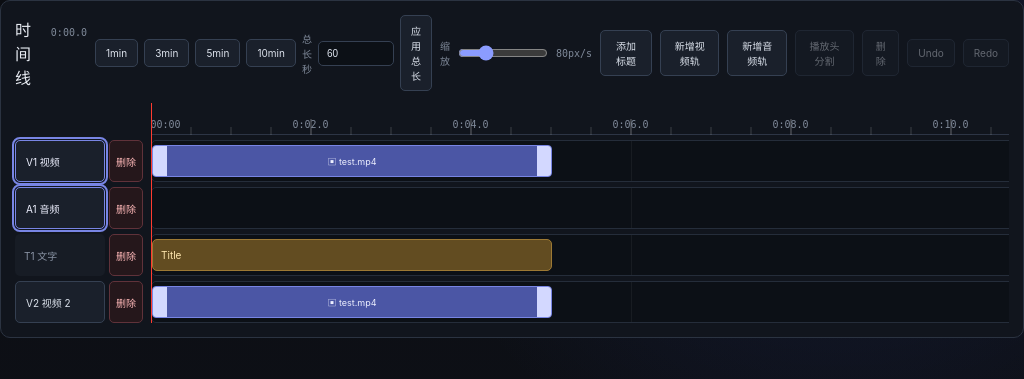
editor interactions › clamps cross-track clip moves when the target track has conflicts
The image size is (1024, 379).
Press the mouse on the button with aria-label "视频片段 test.mp4" at (352, 161), box [152,145,552,177]
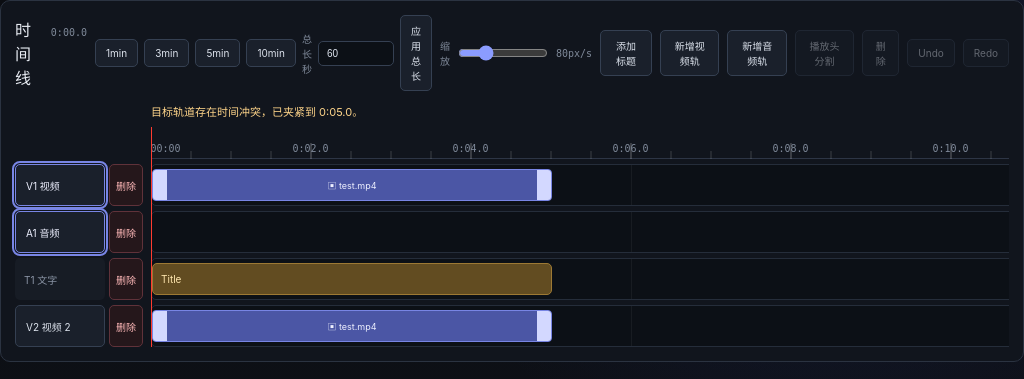
Expected: the message shows "时间冲突", [151,105,363,119]
